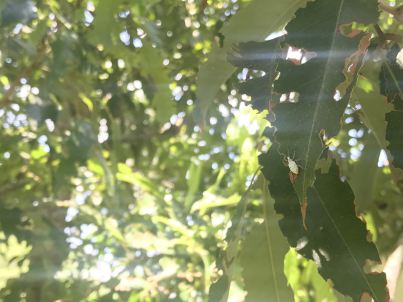weevil: (279, 149, 307, 177)
